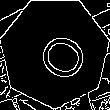O_NW: (23, 21, 87, 83)
